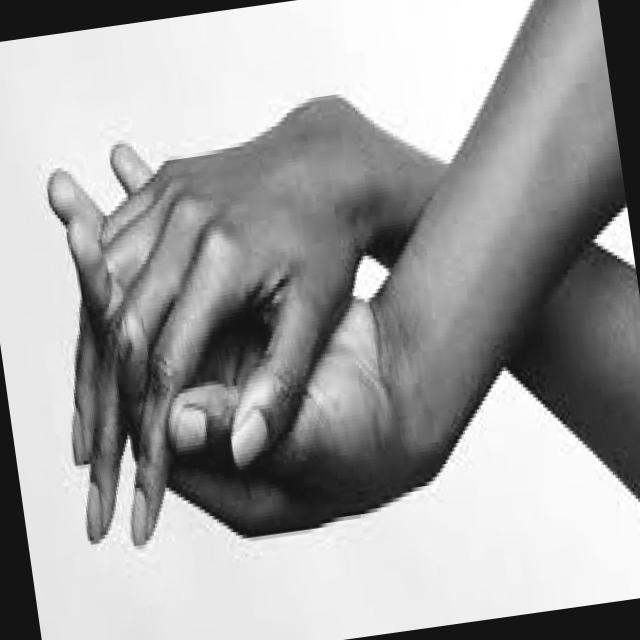Hand: (21, 82, 420, 564), (34, 98, 436, 575)
